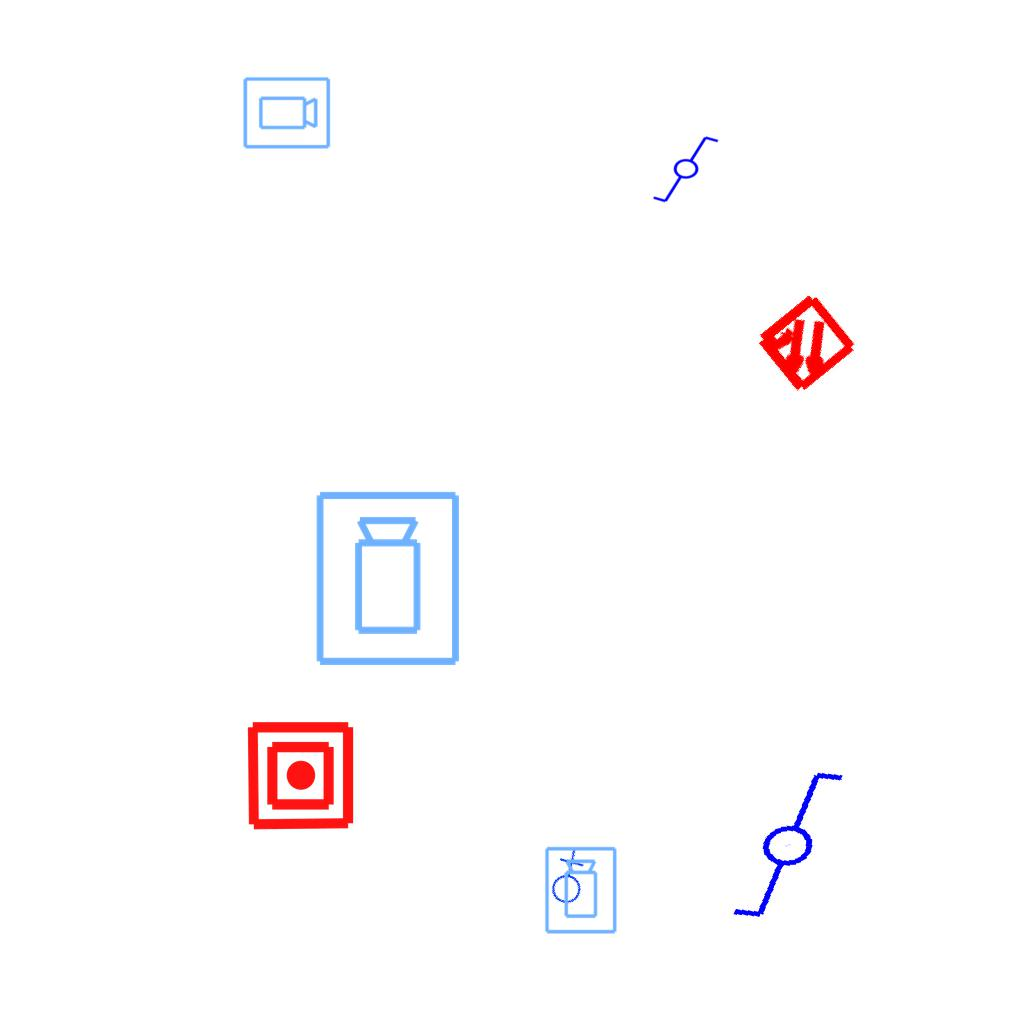Elektroanschluss_allgemein_230V_Geraeteanschlussdose_230V: (533, 845, 600, 912)
KFO_Kamera_mit_Festobjektiv: (312, 488, 466, 670), (241, 75, 332, 152), (543, 845, 620, 936)
NAM-Nichtautomatischer_Melder: (244, 719, 357, 832)
OT_Multisensormelder_(Kombination_RMO_WMD): (725, 265, 884, 424)
Wechselschalter: (689, 760, 870, 930), (651, 134, 729, 206)
